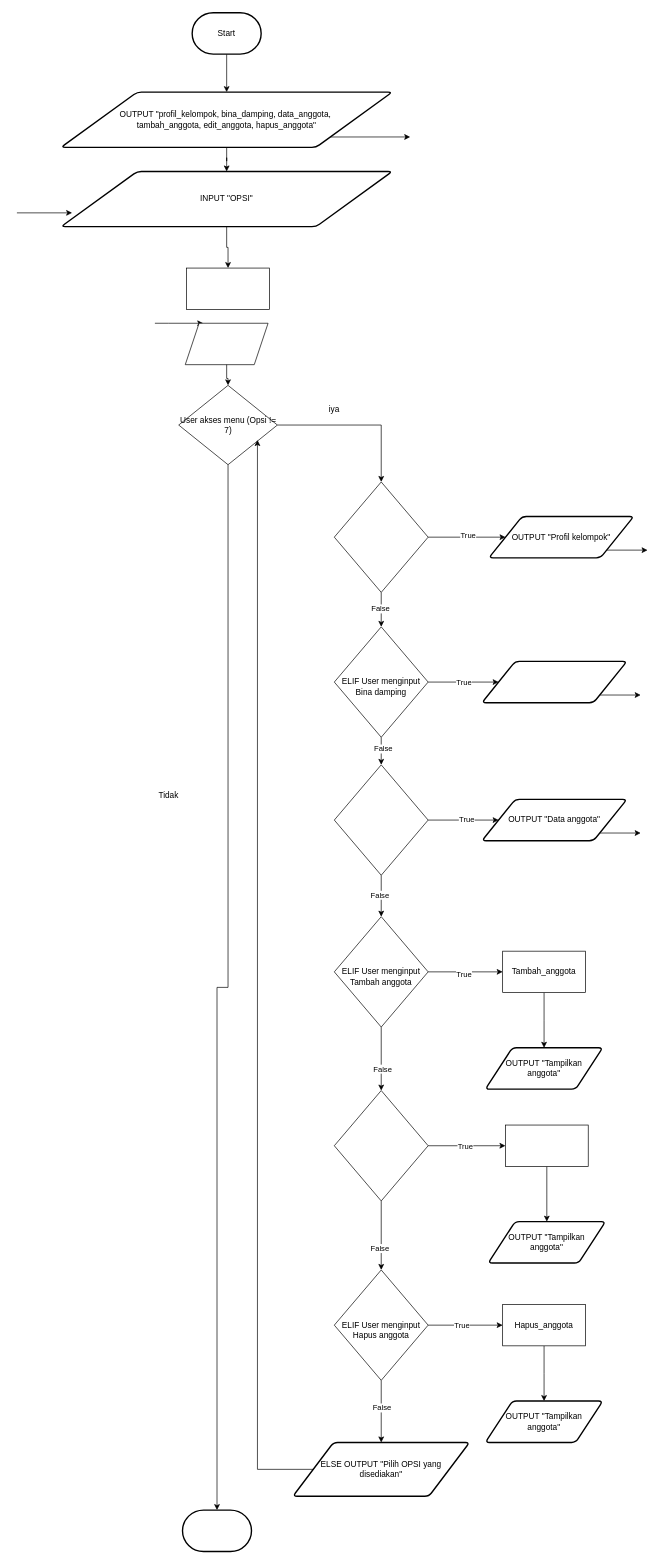
Image size: 665x1564. Some labels were removed from this diagram. Here are the shapes that lost their labels. From the top down, the centre of each, then its label:
point (227, 288): OPSI
point (226, 344): pilihan user
point (381, 536): IF User menginput Profil kelompok
point (554, 681): OUTPUT "Bina damping"
point (381, 819): ELIF User menginput Data anggota
point (381, 1145): ELIF User menginput Edit Anggota
point (546, 1145): Edit_anggota
point (216, 1530): End
